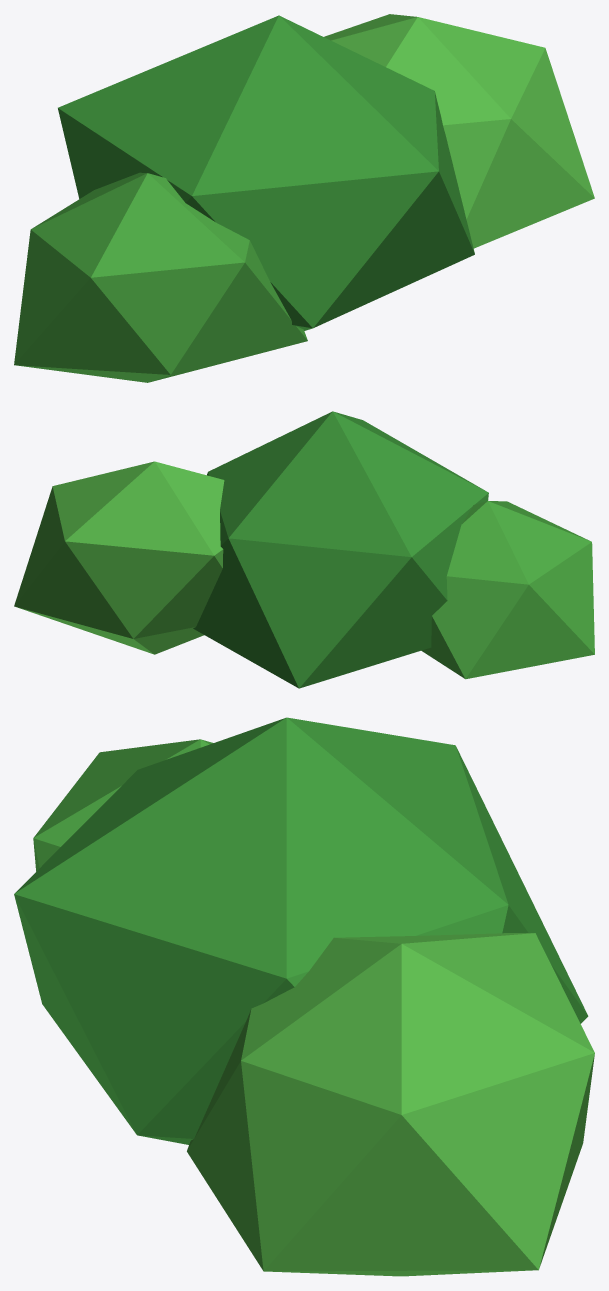
The model's file is bush.glb.
3 views of the same model, one above another, from view 1: azimuth 30°, elevation 25°; view 2: azimuth 150°, elevation 25°; view 3: azimuth 270°, elevation 25° (orthographic). The views are drawn at different scales.
Visible parts, largest first — view 1: bush; view 2: bush; view 3: bush.
Part boxes in pixels (bbox=[...]): bush: bbox=[14, 14, 594, 382]; bush: bbox=[14, 411, 594, 688]; bush: bbox=[14, 717, 594, 1276].
Size of the model in its own units: 3.35 by 1.71 by 2.02.
